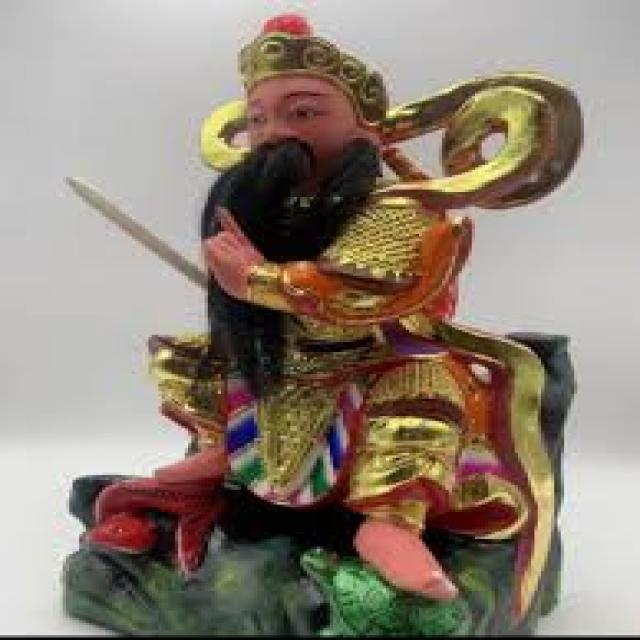Xuan wu: (104, 14, 520, 630)
